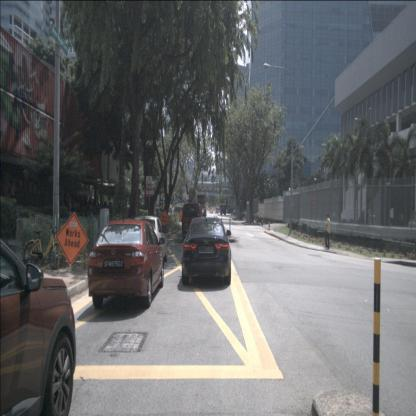human-pedestrian-adult: (324, 214, 332, 250), (257, 210, 259, 225)
vehicle-bicycle: (23, 222, 63, 270)
vehicle-car: (0, 236, 77, 415), (88, 219, 164, 309), (181, 218, 231, 286), (131, 215, 168, 268), (182, 203, 204, 243), (200, 208, 206, 217), (215, 207, 219, 214)
vehicle-truck: (198, 192, 206, 216), (220, 204, 226, 215)
